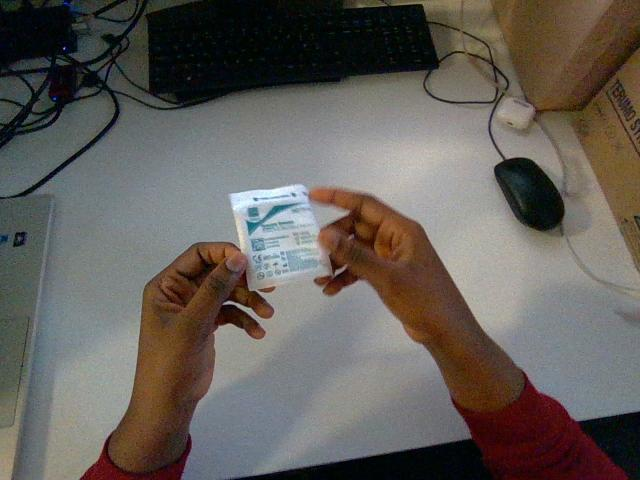gauze: (229, 185, 331, 289)
